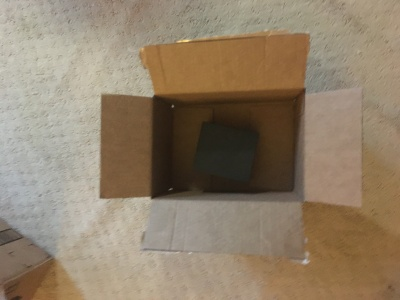innerbox: (151, 94, 304, 203)
outerbox: (100, 44, 364, 257)
product: (196, 121, 255, 175)
